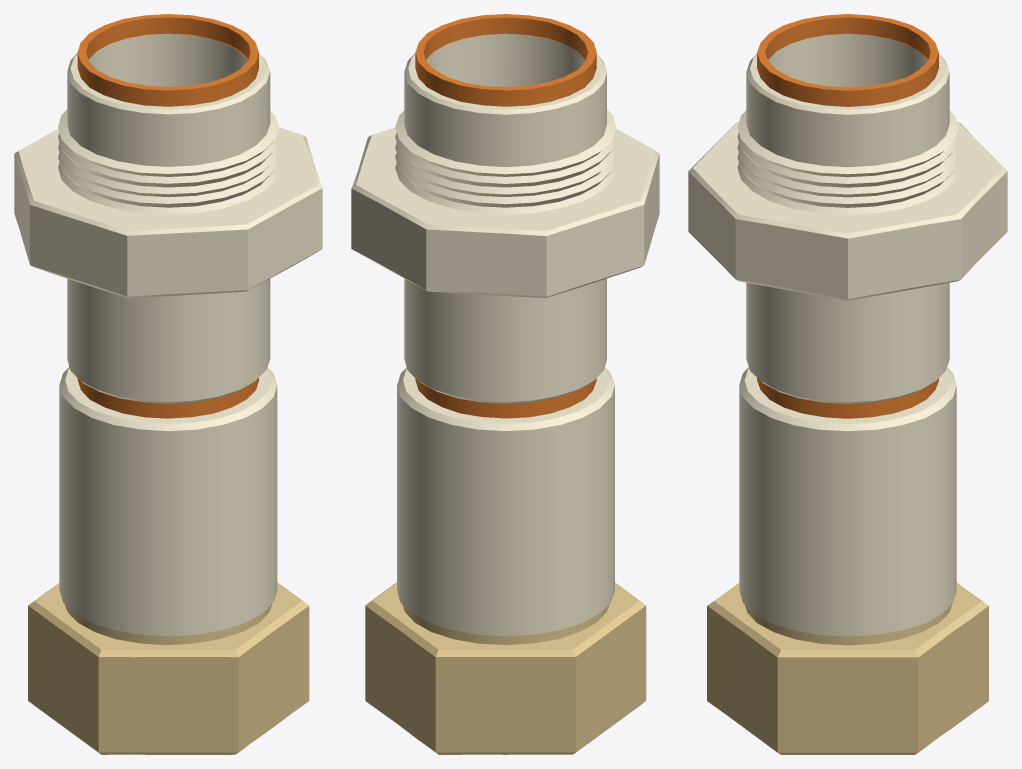
The model's file is pipes_supply__water_heater__af26b772__r4y.glb.
The picture shows the model from 3 angles, left to right: view 1: azimuth 30°, elevation 25°; view 2: azimuth 150°, elevation 25°; view 3: azimuth 270°, elevation 25°; orthographic projection.
Parts seen in each view (by area): view 1: union_supply_wh_hot, fit_fip_wh_hot; view 2: union_supply_wh_hot, fit_fip_wh_hot; view 3: union_supply_wh_hot, fit_fip_wh_hot.
Boxes of the visible parts, x1,y1,x2,y2 form: union_supply_wh_hot: (14,14,322,416); fit_fip_wh_hot: (28,367,309,754); union_supply_wh_hot: (351,14,659,416); fit_fip_wh_hot: (365,367,646,754); union_supply_wh_hot: (688,14,1007,416); fit_fip_wh_hot: (707,367,988,754).
Bounding box in the file's own units: 0.0437 × 0.0988 × 0.0437.
